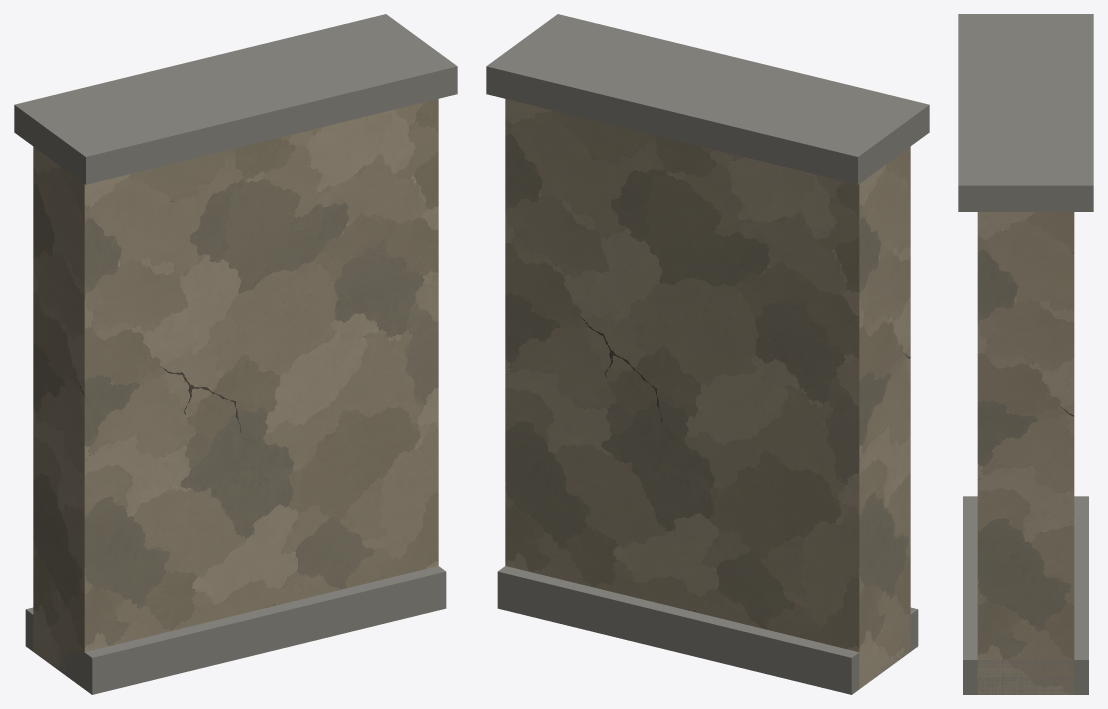
File: wall_plaster.glb
3 views of the same model, side by side, from view 1: azimuth 30°, elevation 25°; view 2: azimuth 150°, elevation 25°; view 3: azimuth 270°, elevation 25° (orthographic). The views are drawn at different scales.
Parts seen in each view (by area): view 1: wall_plaster; view 2: wall_plaster; view 3: wall_plaster.
Part boxes in pixels (box(x1,y1,x2,y2)): wall_plaster: box(14, 14, 457, 694); wall_plaster: box(486, 14, 929, 694); wall_plaster: box(958, 14, 1093, 694).
Bounding box in the file's own units: 2.1 × 2.92 × 0.7.
2 materials, 1 textured.
